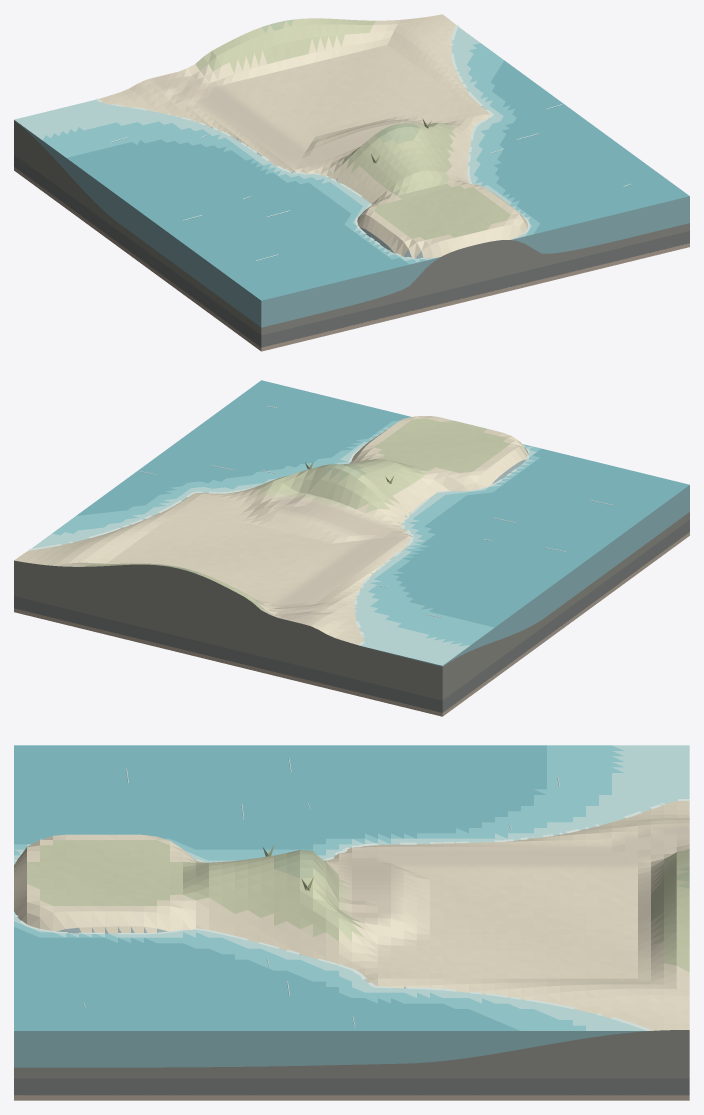
3 renders of one model, top to bottom at view 1: azimuth 30°, elevation 25°; view 2: azimuth 150°, elevation 25°; view 3: azimuth 270°, elevation 25°, orthographic. The views are drawn at different scales.
Visible parts, largest first — view 1: proc_water, proc_ground, proc_skirt, proc_water_side, proc_foam; view 2: proc_water, proc_ground, proc_skirt, proc_water_side, proc_foam; view 3: proc_water, proc_ground, proc_skirt, proc_water_side, proc_foam.
Boxes of the visible parts, x1,y1,x2,y2 form: proc_water: (14, 27, 689, 300); proc_ground: (99, 14, 527, 258); proc_skirt: (14, 121, 689, 351); proc_water_side: (14, 120, 689, 327); proc_foam: (95, 25, 530, 258); proc_water: (31, 380, 689, 665); proc_ground: (14, 416, 528, 645); proc_skirt: (14, 512, 689, 716); proc_water_side: (365, 485, 689, 666); proc_foam: (28, 444, 529, 645); proc_water: (14, 745, 689, 1030); proc_ground: (14, 801, 689, 1030); proc_skirt: (14, 1030, 689, 1100); proc_water_side: (14, 1031, 647, 1067); proc_foam: (14, 799, 689, 1030).
Size of the model in its own units: 8.02 by 1.57 by 8.
